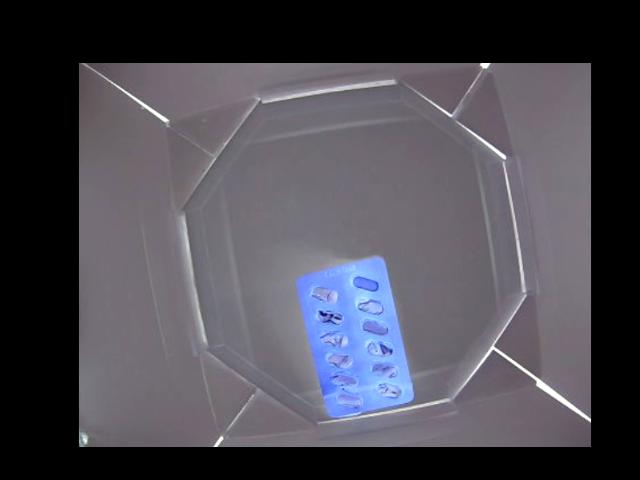Medicine: (297, 253, 415, 419)
